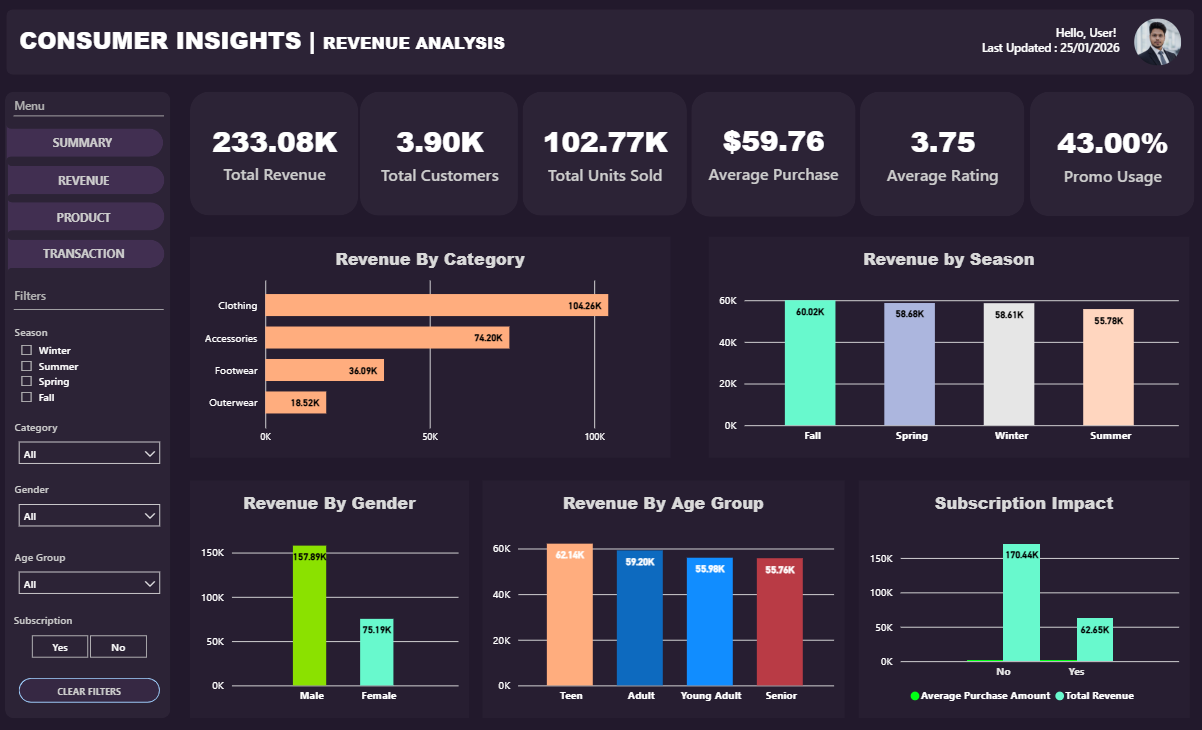

What the dashboard file says about the page in this screenshot:
{"tool":"powerbi","page":{"name":"Revenue Analysis","canvas":[1400,847],"ordinal":1},"visuals":[{"type":"shape","box":[12.9,13.2,1372.9,75.7],"z":0},{"type":"textbox","box":[23.3,25,601.7,53.3],"z":1000},{"type":"textbox","box":[1016.7,23.9,308.3,54.2],"z":2000},{"type":"image","box":[1312.2,18.8,64.4,64.4],"z":3000},{"type":"shape","box":[12,108,191,724],"z":4000},{"type":"textbox","box":[17.3,109.3,91.3,38.7],"z":5000},{"type":"shape","box":[12.7,139.7,181.3,54],"z":6000},{"type":"actionButton","box":[13.3,153,176,26.7],"z":7000},{"type":"shape","box":[22,128.7,173.3,15.3],"z":8000},{"type":"shape","box":[14.3,182.8,181.3,54],"z":9000},{"type":"actionButton","box":[15,196.1,176,26.7],"z":10000},{"type":"shape","box":[14.3,225.9,181.3,54],"z":11000},{"type":"actionButton","box":[15,239.2,176,26.7],"z":12000},{"type":"shape","box":[13.8,268.9,181.3,54],"z":13000},{"type":"actionButton","box":[14.5,282.2,176,26.7],"z":14000},{"type":"textbox","box":[17.2,328.9,91.7,38.3],"z":15000},{"type":"shape","box":[22.2,352.2,173.3,15],"z":16000},{"type":"slicer","title":"Season","fields":{"Values":["consumer_behaviour consumer_data.season"]},"box":[11.8,367,193,119],"z":17000},{"type":"slicer","title":"Category","fields":{"Values":["consumer_behaviour consumer_data.category"]},"box":[11.8,476.4,194.5,72.7],"z":18000},{"type":"slicer","title":"Age Group","fields":{"Values":["consumer_behaviour consumer_data.age_group"]},"box":[11.8,626.4,194.5,73.6],"z":19000},{"type":"slicer","title":"Subscription","fields":{"Values":["consumer_behaviour consumer_data.subscription_status"]},"box":[11.8,700,192.7,70.9],"z":20000},{"type":"slicer","title":"Gender","fields":{"Values":["consumer_behaviour consumer_data.gender"]},"box":[11.8,549.1,194.5,77.3],"z":21000},{"type":"actionButton","title":"Clear Filters","box":[26.9,785.4,163.1,28.5],"z":22000},{"type":"columnChart","title":"Revenue By Gender","fields":{"Category":["consumer_behaviour consumer_data.gender"],"Y":["consumer_behaviour consumer_data.Total Revenue"]},"box":[226,558,322,274],"z":23000},{"type":"columnChart","title":"Revenue By Age Group","fields":{"Category":["consumer_behaviour consumer_data.age_group"],"Y":["consumer_behaviour consumer_data.Total Revenue"]},"box":[563,558,418,274],"z":24000},{"type":"barChart","title":"Revenue By Category","fields":{"Category":["consumer_behaviour consumer_data.category"],"Y":["consumer_behaviour consumer_data.Total Revenue"]},"box":[225.5,276.4,555,255],"z":25000},{"type":"columnChart","title":"Revenue by Season","fields":{"Y":["consumer_behaviour consumer_data.Total Revenue"],"Category":["consumer_behaviour consumer_data.season"]},"box":[825,276,555,255],"z":26000},{"type":"group","id":"g1","title":"Group 1","box":[225.7,108,190,142.9],"z":27000},{"type":"shape","box":[225.7,108,194.4,142.9],"z":27000,"group":"g1"},{"type":"shape","box":[421.2,108,182.7,143.3],"z":27000,"group":"g2"},{"type":"shape","box":[609.3,108,190,143.3],"z":27000,"group":"g3"},{"type":"shape","box":[804.8,108,190,144.4],"z":27000,"group":"g6"},{"type":"shape","box":[1000.2,108,190,144],"z":27000,"group":"g4"},{"type":"shape","box":[1195.7,108,190,143.8],"z":27000,"group":"g5"},{"type":"group","id":"g2","title":"Group 1","box":[421.2,108,182.7,142],"z":28000},{"type":"card","fields":{"Values":["consumer_behaviour consumer_data.Promotion Usage %"]},"box":[1199.1,119.2,185.7,120],"z":28000,"group":"g5"},{"type":"card","fields":{"Values":["consumer_behaviour consumer_data.Average Purchase Amount"]},"box":[808.6,120.2,181.6,115.6],"z":28000,"group":"g6"},{"type":"card","fields":{"Values":["consumer_behaviour consumer_data.Total Revenue"]},"box":[229.8,120.9,186.9,114.1],"z":28000,"group":"g1"},{"type":"card","fields":{"Values":["consumer_behaviour consumer_data.Total Customers"]},"box":[425.1,120.9,175.7,114.4],"z":28000,"group":"g2"},{"type":"card","fields":{"Values":["consumer_behaviour consumer_data.Total Units Sold"]},"box":[613.3,120.9,182.7,114.5],"z":28000,"group":"g3"},{"type":"card","fields":{"Values":["consumer_behaviour consumer_data.Average Review Rating"]},"box":[1004.2,121,182.7,115],"z":28000,"group":"g4"},{"type":"group","id":"g3","title":"Group 1","box":[609.3,108,190,143.3],"z":29000},{"type":"group","id":"g4","title":"Group 1","box":[1000.2,108,190,142.9],"z":30000},{"type":"group","id":"g5","title":"Group 1","box":[1195.7,108,190,142.9],"z":31000},{"type":"clusteredColumnChart","title":"Subscription Impact","fields":{"Category":["consumer_behaviour consumer_data.subscription_status"],"Y":["consumer_behaviour consumer_data.Average Purchase Amount","consumer_behaviour consumer_data.Total Revenue"]},"box":[998,558,382,274],"z":32000},{"type":"group","id":"g6","title":"Group 1","box":[804.8,108,190,144.4],"z":33000}]}

Visuals, with their boxes in screenshot pixels (x1, y1, x2, y2), scaled from the page's 1400x847 canvas onto the 1202x730 screenshot:
shape: bbox=(11, 11, 1190, 77)
textbox: bbox=(20, 22, 537, 67)
textbox: bbox=(873, 21, 1138, 67)
image: bbox=(1127, 16, 1182, 72)
shape: bbox=(10, 93, 174, 717)
textbox: bbox=(15, 94, 93, 128)
shape: bbox=(11, 120, 167, 167)
actionButton: bbox=(11, 132, 163, 155)
shape: bbox=(19, 111, 168, 124)
shape: bbox=(12, 158, 168, 204)
actionButton: bbox=(13, 169, 164, 192)
shape: bbox=(12, 195, 168, 241)
actionButton: bbox=(13, 206, 164, 229)
shape: bbox=(12, 232, 168, 278)
actionButton: bbox=(12, 243, 164, 266)
textbox: bbox=(15, 283, 93, 316)
shape: bbox=(19, 304, 168, 316)
"Season" slicer: bbox=(10, 316, 176, 419)
"Category" slicer: bbox=(10, 411, 177, 473)
"Age Group" slicer: bbox=(10, 540, 177, 603)
"Subscription" slicer: bbox=(10, 603, 176, 664)
"Gender" slicer: bbox=(10, 473, 177, 540)
"Clear Filters" actionButton: bbox=(23, 677, 163, 701)
"Revenue By Gender" columnChart: bbox=(194, 481, 470, 717)
"Revenue By Age Group" columnChart: bbox=(483, 481, 842, 717)
"Revenue By Category" barChart: bbox=(194, 238, 670, 458)
"Revenue by Season" columnChart: bbox=(708, 238, 1185, 458)
"Group 1" group: bbox=(194, 93, 357, 216)
shape: bbox=(194, 93, 361, 216)
shape: bbox=(362, 93, 518, 217)
shape: bbox=(523, 93, 686, 217)
shape: bbox=(691, 93, 854, 218)
shape: bbox=(859, 93, 1022, 217)
shape: bbox=(1027, 93, 1190, 217)
"Group 1" group: bbox=(362, 93, 518, 215)
card - consumer_behaviour consumer_data.Promotion Usage %: bbox=(1030, 103, 1189, 206)
card - consumer_behaviour consumer_data.Average Purchase Amount: bbox=(694, 104, 850, 203)
card - consumer_behaviour consumer_data.Total Revenue: bbox=(197, 104, 358, 203)
card - consumer_behaviour consumer_data.Total Customers: bbox=(365, 104, 516, 203)
card - consumer_behaviour consumer_data.Total Units Sold: bbox=(527, 104, 683, 203)
card - consumer_behaviour consumer_data.Average Review Rating: bbox=(862, 104, 1019, 203)
"Group 1" group: bbox=(523, 93, 686, 217)
"Group 1" group: bbox=(859, 93, 1022, 216)
"Group 1" group: bbox=(1027, 93, 1190, 216)
"Subscription Impact" clusteredColumnChart: bbox=(857, 481, 1185, 717)
"Group 1" group: bbox=(691, 93, 854, 218)
